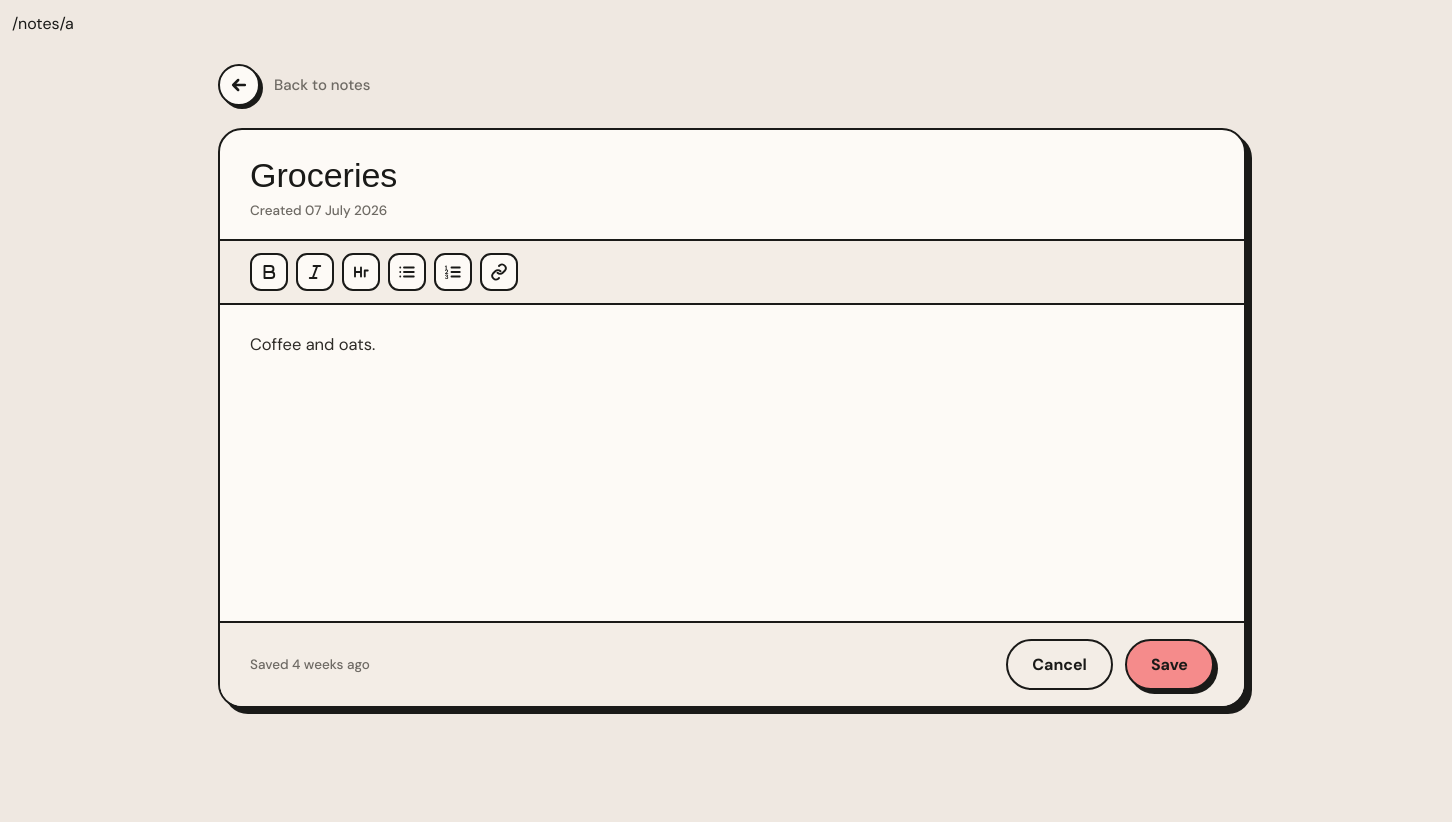
Test: NoteEditorPage › tracking unsaved work › says so as soon as the title changes
The width and height of the screenshot is (1452, 822).
Type "!" into the field named "Note title". click: (732, 176)
box: [250, 156, 1214, 195]
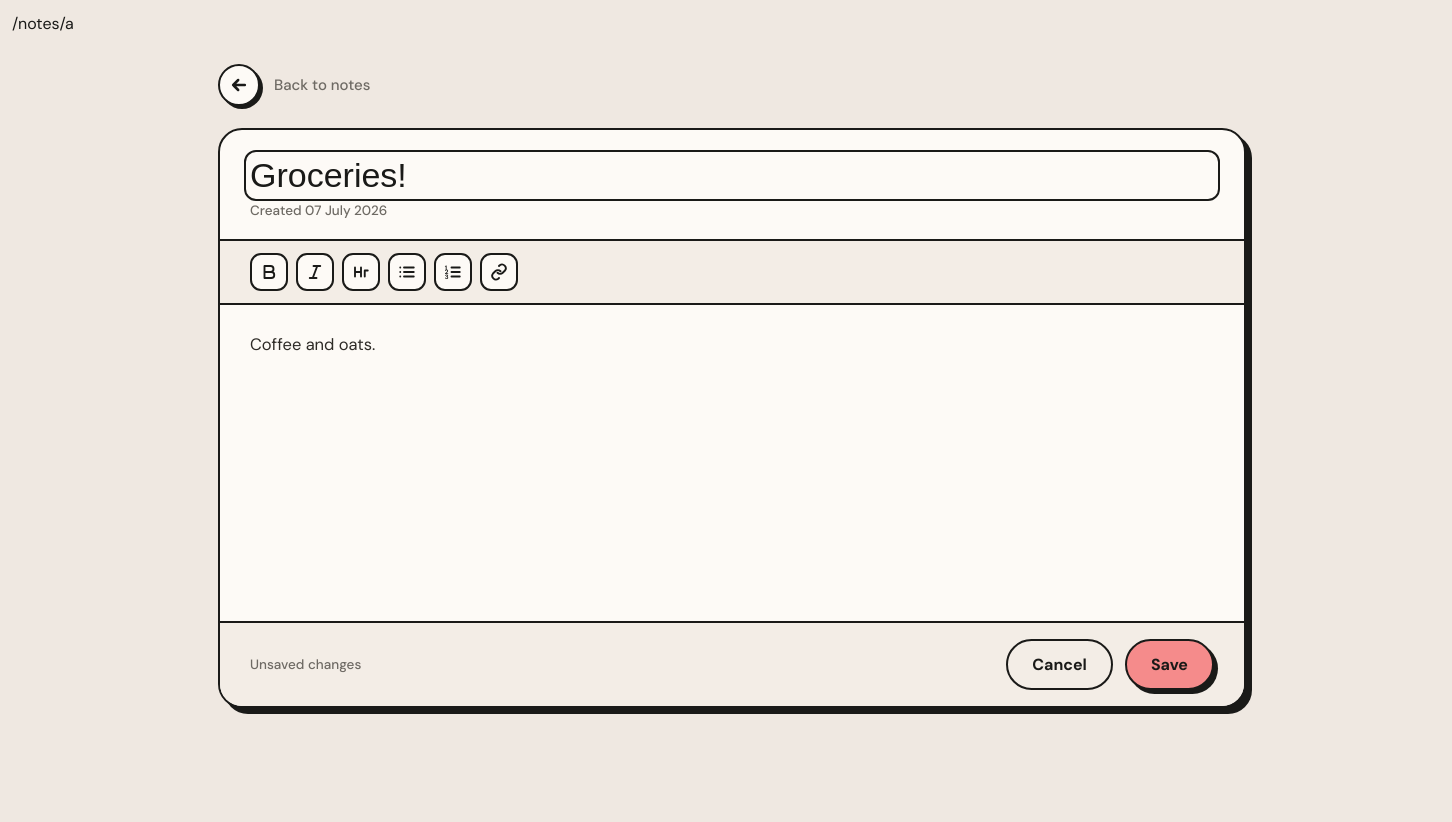
Check: the text "Unsaved changes" is shown, box [250, 655, 361, 675]
